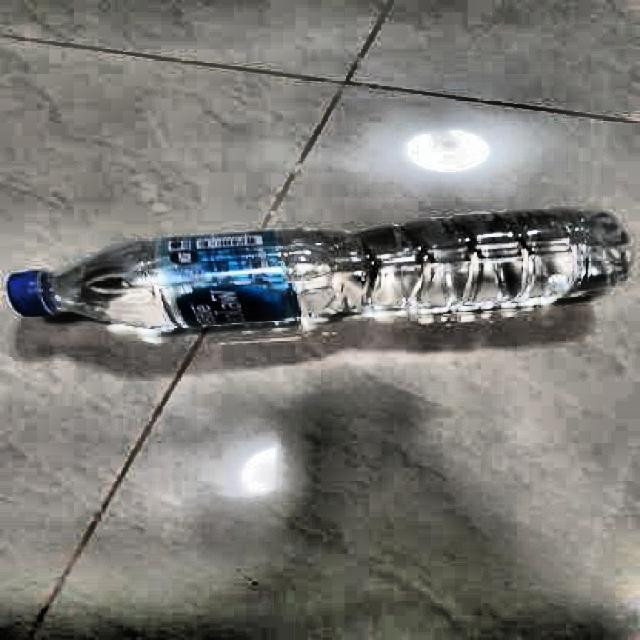Bottles: (3, 203, 640, 332)
